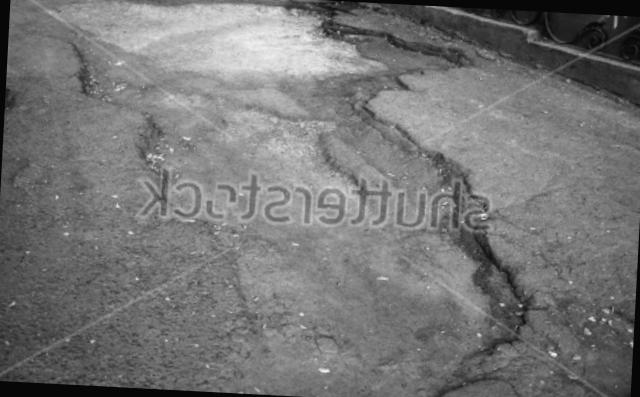Pothole: (1, 0, 550, 397), (526, 285, 635, 397)
